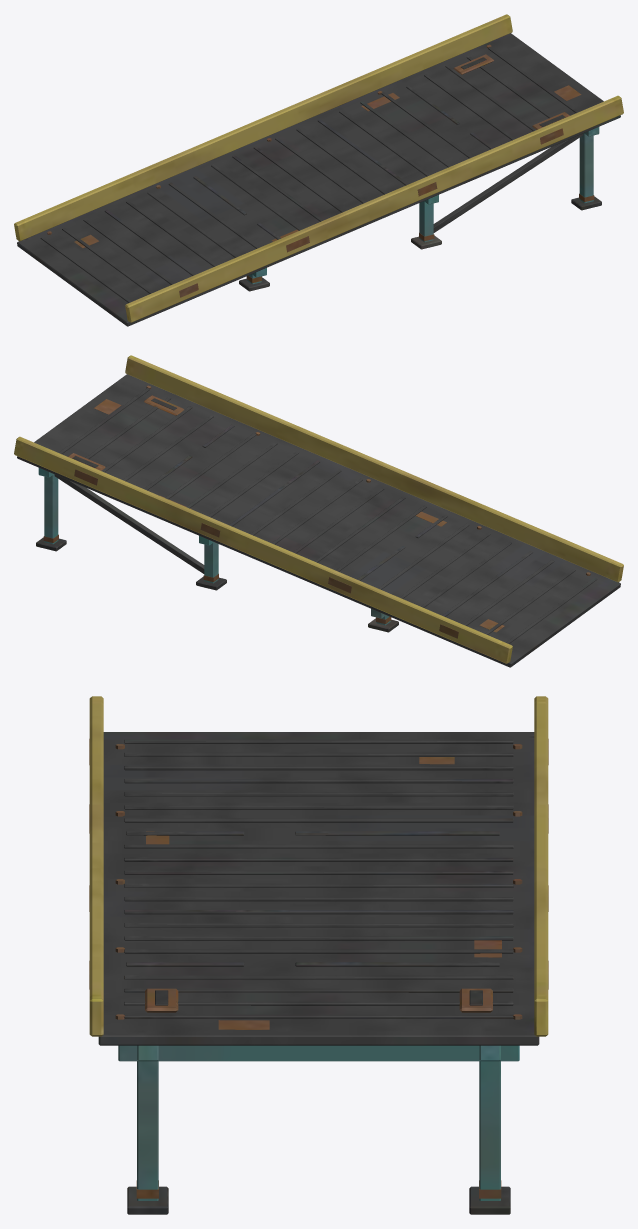
File: HE03_wheelchair_ramp.glb
3 views of the same model, one above another, from view 1: azimuth 30°, elevation 25°; view 2: azimuth 150°, elevation 25°; view 3: azimuth 270°, elevation 25° (orthographic). The views are drawn at different scales.
Visible parts, largest first — view 1: Continuous steel ramp deck; view 2: Continuous steel ramp deck; view 3: Continuous steel ramp deck.
Part boxes in pixels (x1,y1,x2,y2): Continuous steel ramp deck: (14,14,623,326); Continuous steel ramp deck: (14,355,623,667); Continuous steel ramp deck: (89,696,548,1214).
Bounding box in the file's own units: 3 × 0.6941 × 1.2.
5 materials, 5 textured.
